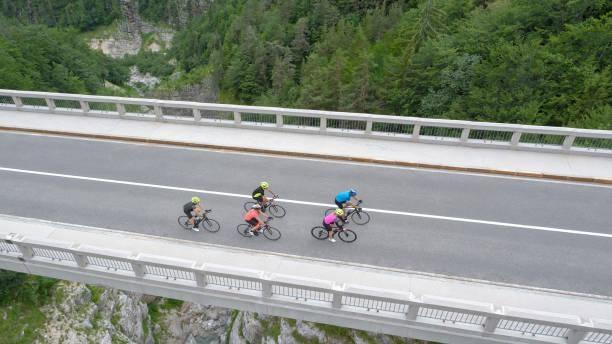Motorcycle: (236, 226, 290, 250), (312, 221, 358, 247), (177, 203, 216, 233), (242, 188, 284, 215), (333, 197, 368, 223)
